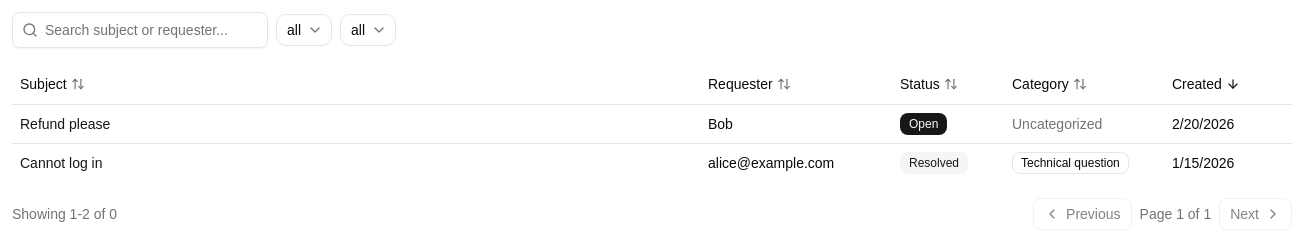
Test case: TicketsTable › only offers agent-visible statuses in the status filter
The width and height of the screenshot is (1304, 247).
Expected: the row "Refund please Bob Open Uncategorized 2/20/2026" is shown, [12,104,1292,143]
Click the dropdown named "filter by status" at {"x": 304, "y": 30}, box [276,14,332,46]
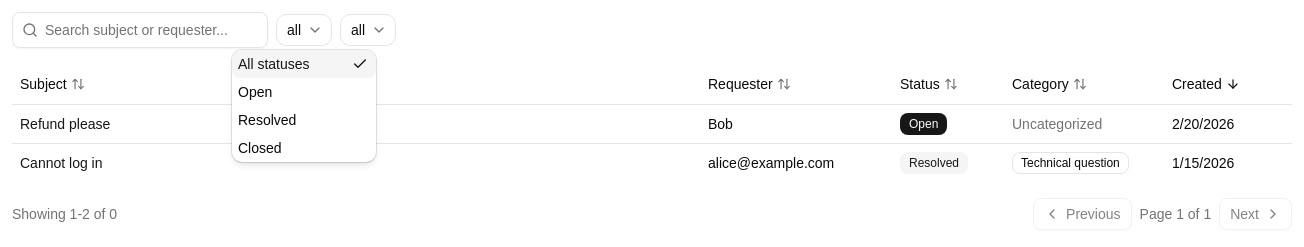
Expected: the options read "All statuses", "Open", "Resolved", "Closed", in this order, [232,50,376,78]; [238,84,272,100]; [238,112,296,128]; [238,140,282,156]
